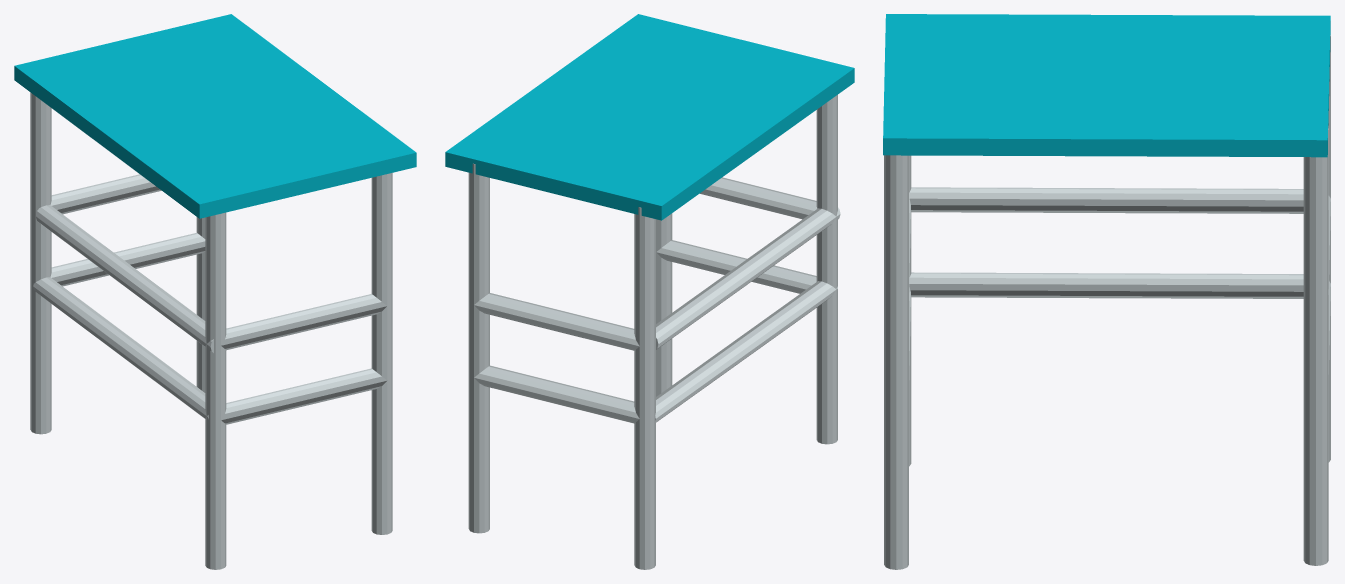
Rendered from MesaSilla.glb.
3 views of the same model, side by side, from view 1: azimuth 30°, elevation 25°; view 2: azimuth 150°, elevation 25°; view 3: azimuth 270°, elevation 25° (orthographic). The views are drawn at different scales.
Parts seen in each view (by area): view 1: group1142061466.002, group1854136480.002, group1374110618.002, group657094310.002, group480697298.002, group1789292237.002, group1084335508.002, group455884042.002, group1074460276.002, group1527351325.002, group1392494020.002; view 2: group1142061466.002, group657094310.002, group1392494020.002, group1854136480.002, group480697298.002, group1789292237.002, group1527351325.002, group1074460276.002, group1084335508.002, group1374110618.002, group455884042.002; view 3: group1142061466.002, group1392494020.002, group1374110618.002, group480697298.002, group1789292237.002, group657094310.002, group1854136480.002.
Boxes of the visible parts, <box> form: group1142061466.002: <box>14,14,416,218</box>; group1854136480.002: <box>205,212,226,569</box>; group1374110618.002: <box>371,173,392,534</box>; group657094310.002: <box>30,92,51,434</box>; group480697298.002: <box>36,205,226,352</box>; group1789292237.002: <box>33,277,208,418</box>; group1084335508.002: <box>221,368,387,424</box>; group455884042.002: <box>221,294,386,350</box>; group1074460276.002: <box>50,233,205,286</box>; group1527351325.002: <box>50,174,161,214</box>; group1392494020.002: <box>196,217,205,392</box>; group1142061466.002: <box>445,14,854,220</box>; group657094310.002: <box>634,207,655,569</box>; group1392494020.002: <box>468,163,489,533</box>; group1854136480.002: <box>816,95,837,444</box>; group480697298.002: <box>656,207,840,349</box>; group1789292237.002: <box>655,281,837,422</box>; group1527351325.002: <box>474,293,639,350</box>; group1074460276.002: <box>474,365,639,423</box>; group1084335508.002: <box>656,240,816,293</box>; group1374110618.002: <box>656,213,672,396</box>; group455884042.002: <box>700,177,817,219</box>; group1142061466.002: <box>883,14,1330,157</box>; group1392494020.002: <box>1303,128,1328,565</box>; group1374110618.002: <box>884,155,908,569</box>; group480697298.002: <box>909,187,1303,213</box>; group1789292237.002: <box>909,272,1303,298</box>; group657094310.002: <box>1328,35,1330,462</box>; group1854136480.002: <box>909,155,911,466</box>.
Bounding box in the file's own units: 0.5143 × 0.8416 × 0.7712.
